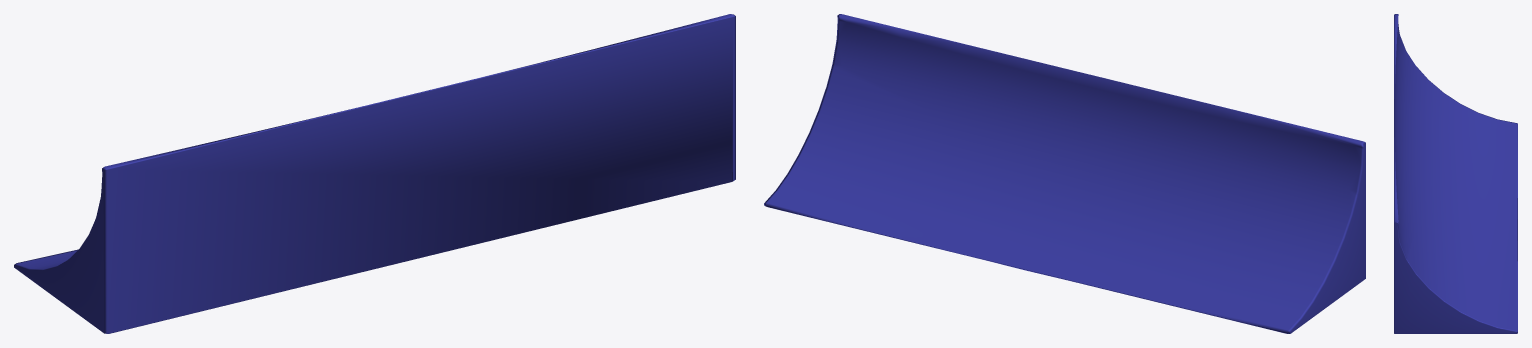
The model's file is SM_Blockout_HalfPipe_4x1x1.fbx.
3 renders of one model, left to right at view 1: azimuth 30°, elevation 25°; view 2: azimuth 150°, elevation 25°; view 3: azimuth 270°, elevation 25°, orthographic. The views are drawn at different scales.
Visible parts, largest first — view 1: halfpipe 4x1x1; view 2: halfpipe 4x1x1; view 3: halfpipe 4x1x1.
Boxes of the visible parts, bbox=[...] form: halfpipe 4x1x1: bbox=[14, 14, 735, 333]; halfpipe 4x1x1: bbox=[764, 14, 1365, 333]; halfpipe 4x1x1: bbox=[1394, 14, 1517, 333].
Bounding box in the file's own units: 400 × 100 × 100.
